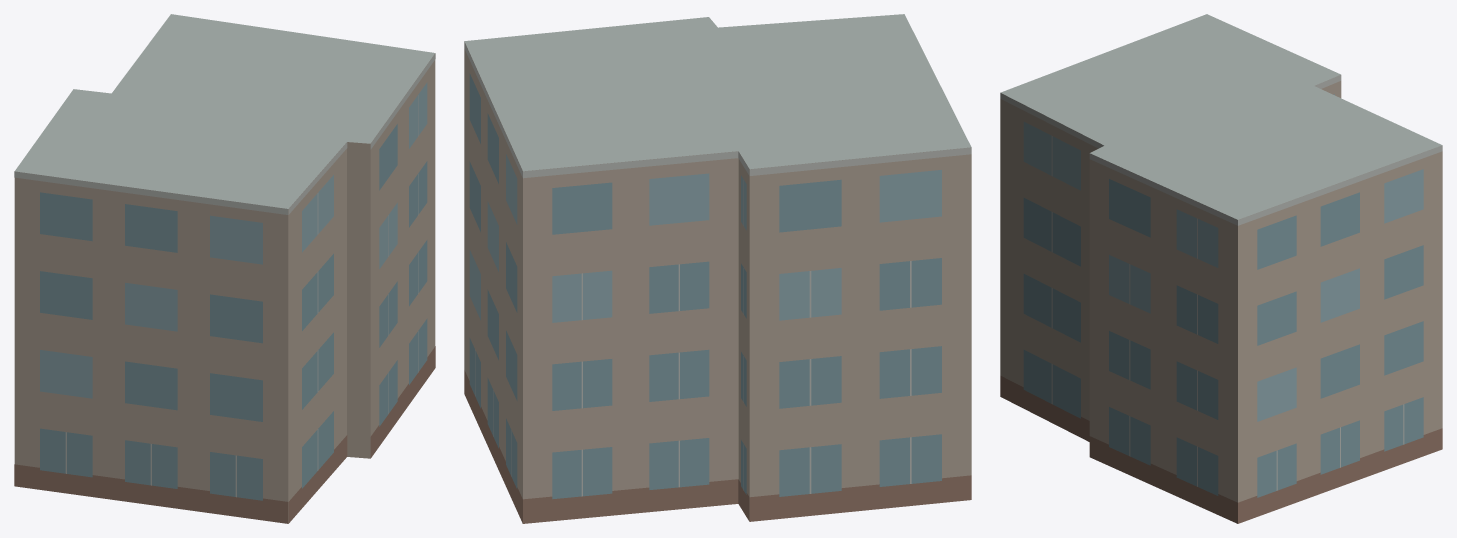
File: survey-upis-33019355.glb
The picture shows the model from 3 angles, left to right: view 1: azimuth 30°, elevation 25°; view 2: azimuth 150°, elevation 25°; view 3: azimuth 270°, elevation 25°; orthographic projection. The views are drawn at different scales.
Parts seen in each view (by area): view 1: survey-upis-33019355.tmp; view 2: survey-upis-33019355.tmp; view 3: survey-upis-33019355.tmp.
Boxes of the visible parts, left/top/right/bottom form: survey-upis-33019355.tmp: left=14, top=14, right=435, bottom=523; survey-upis-33019355.tmp: left=464, top=14, right=971, bottom=523; survey-upis-33019355.tmp: left=1000, top=14, right=1442, bottom=523.
Bounding box in the file's own units: 18.02 × 12.4 × 16.36.
